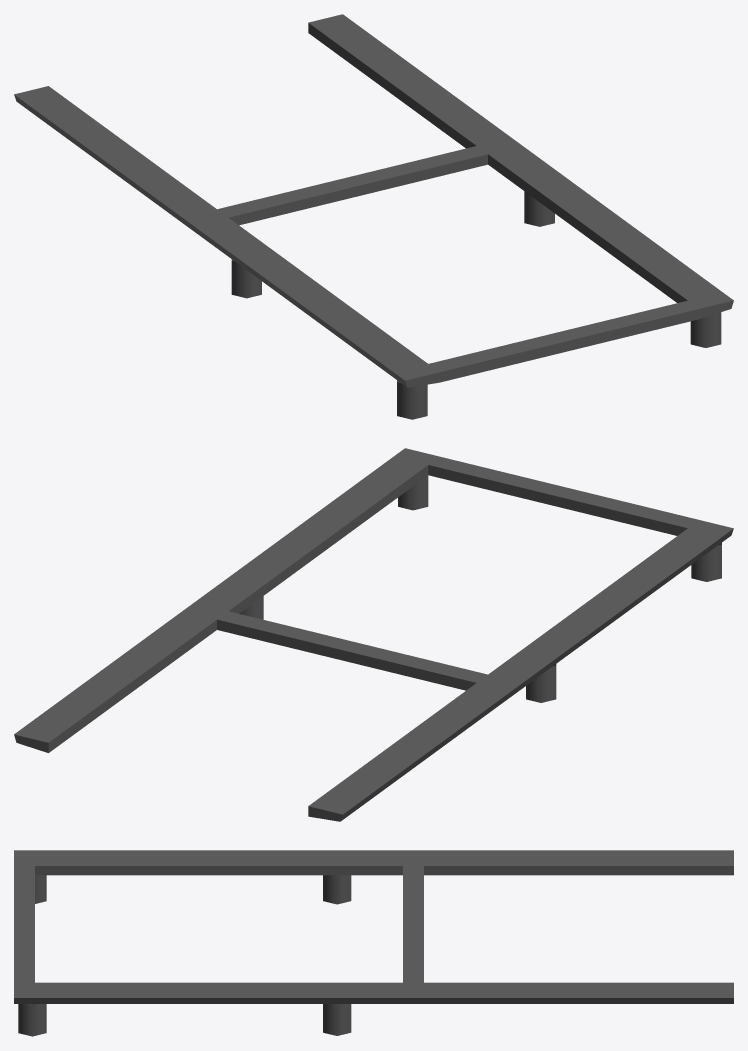
Rendered from nt_2020_glass_sign_shelter_LOD1.obj.
The picture shows the model from 3 angles, top to bottom: view 1: azimuth 30°, elevation 25°; view 2: azimuth 150°, elevation 25°; view 3: azimuth 270°, elevation 25°; orthographic projection. The views are drawn at different scales.
Visible parts, largest first — view 1: nt_2020_metal_chrome; view 2: nt_2020_metal_chrome; view 3: nt_2020_metal_chrome.
Boxes of the visible parts, x1,y1,x2,y2 form: nt_2020_metal_chrome: (14, 14, 733, 419); nt_2020_metal_chrome: (14, 448, 733, 821); nt_2020_metal_chrome: (14, 850, 733, 1036).
Bounding box in the file's own units: 84.45 × 11.39 × 174.
